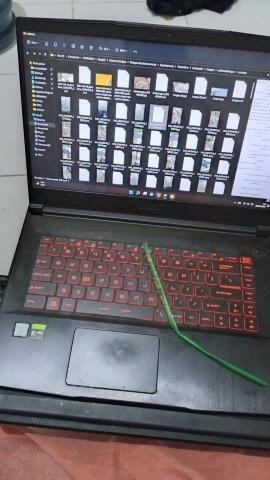sedotan: (145, 246, 264, 386)
